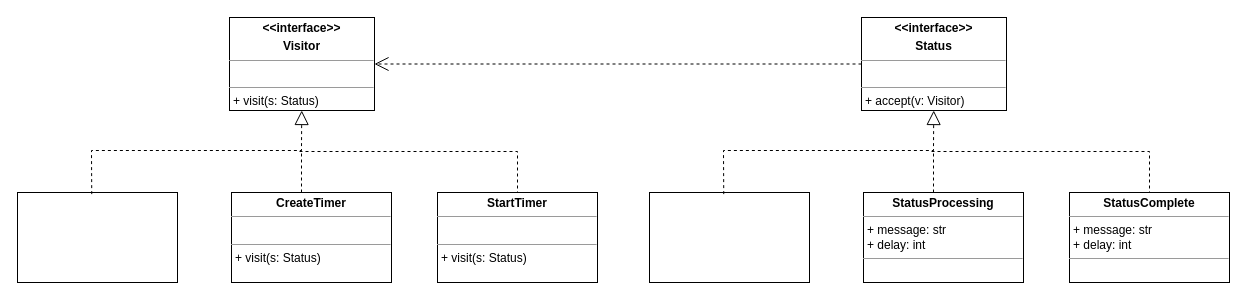
Image size: 1247x300. Some labels were removed from this diagram. Here are the shapes that lost their labels. From the top down, the centre of each, then its label:
At [97,237]: "PrintStatus + visit(s: Status)".
At [729,237]: "StatusPending + message: str + delay: int".
